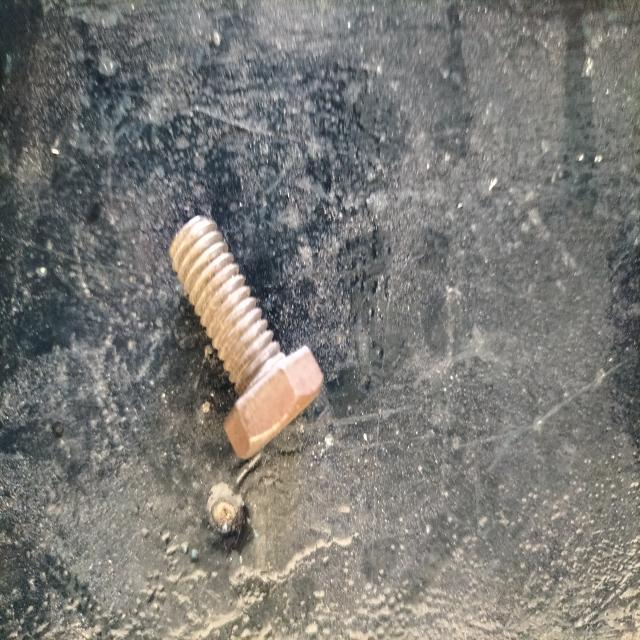bolt: (168, 215, 324, 458)
